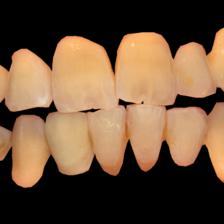cavity: (45, 138, 56, 157), (104, 164, 122, 175), (161, 124, 172, 141), (139, 161, 156, 171), (88, 134, 96, 152), (124, 125, 132, 141), (202, 130, 210, 146)
tooth: (51, 33, 119, 112), (115, 29, 180, 104), (11, 115, 52, 188), (8, 48, 53, 112), (126, 103, 166, 172), (46, 112, 89, 175), (168, 106, 207, 169), (90, 105, 125, 175), (174, 42, 214, 98)
